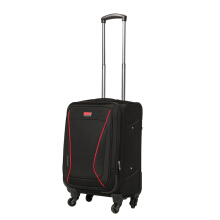luggage: (58, 11, 146, 215)
